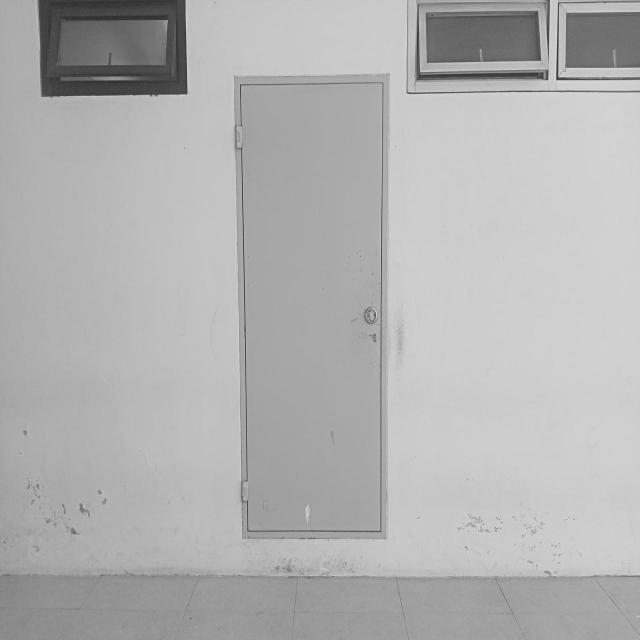door: (232, 76, 390, 544)
